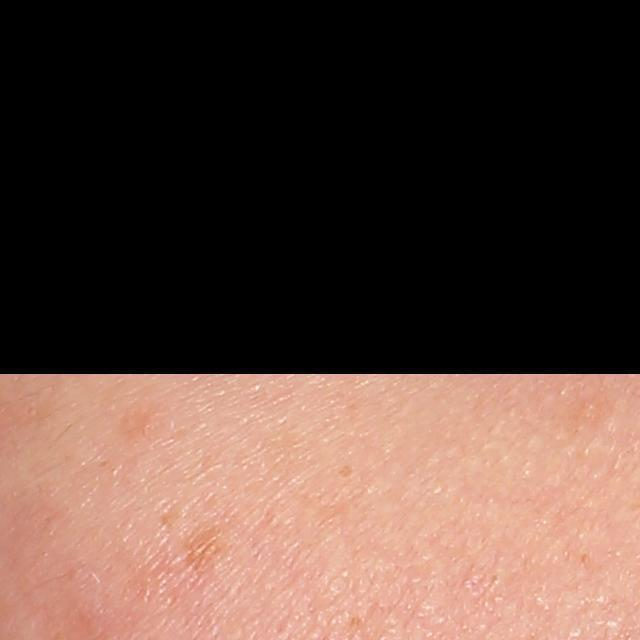melasma: (554, 391, 611, 436), (118, 403, 170, 448), (185, 532, 229, 580)
